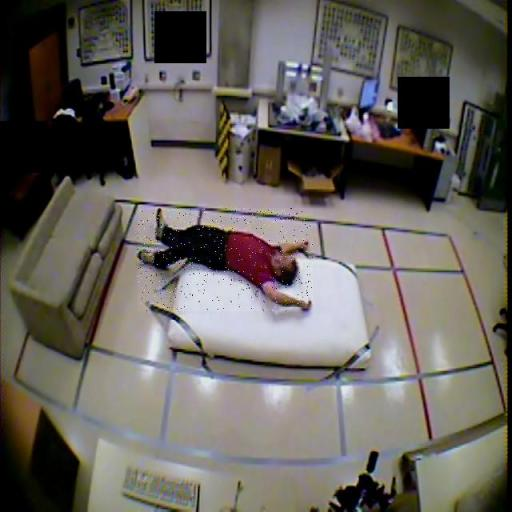Fall: (138, 208, 313, 311)
